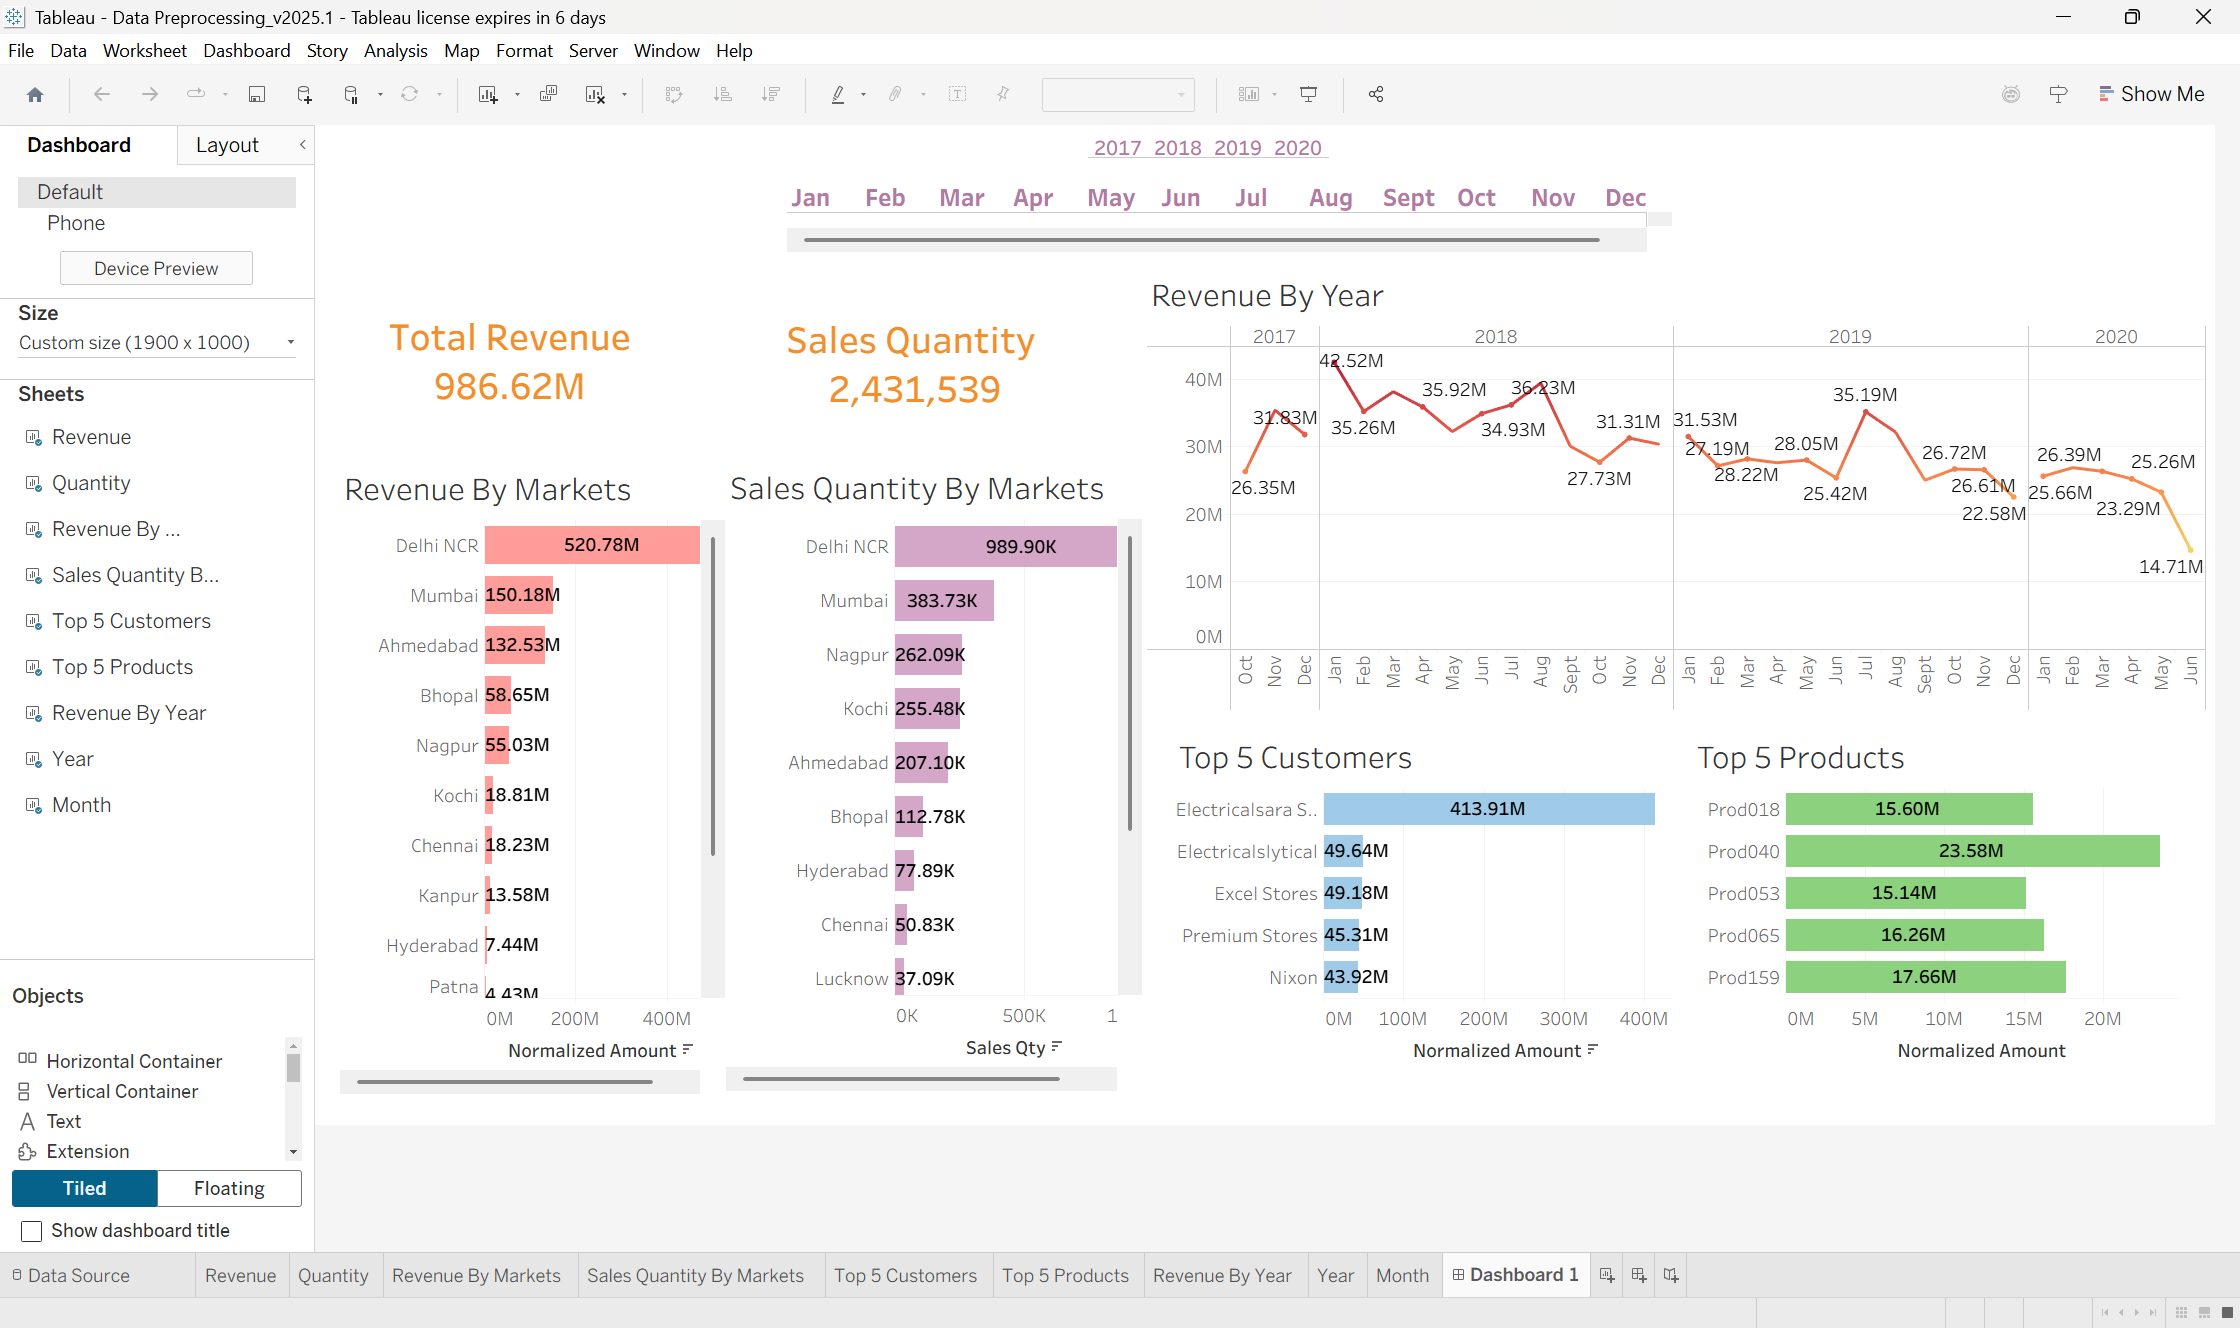

This screenshot's page, from the dashboard's own definition file:
{"tool":"tableau","page":{"name":"Dashboard 1","canvas":[1900,1000],"ordinal":0},"visuals":[{"type":"worksheet","title":"Year","mark":"Automatic","cols":["cy_date"],"box":[773,12,271,49]},{"type":"worksheet","title":"Month","mark":"Automatic","cols":["cy_date"],"box":[472,55,885,72]},{"type":"worksheet","title":"Revenue By Year","mark":"Automatic","rows":["Calculation_1013028471454126080"],"cols":["cy_date","cy_date"],"box":[832,144,1059,442]},{"type":"worksheet","title":"Revenue","mark":"Automatic","box":[65,186,285,121]},{"type":"worksheet","title":"Quantity","mark":"Automatic","box":[466,189,294,113]},{"type":"worksheet","title":"Sales Quantity By Markets","mark":"Automatic","rows":["markets_name"],"cols":["sales_qty"],"box":[411,337,416,629]},{"type":"worksheet","title":"Revenue By Markets","mark":"Automatic","rows":["markets_name"],"cols":["Calculation_1013028471454126080"],"box":[25,338,385,631]},{"type":"worksheet","title":"Top 5 Customers","mark":"Automatic","rows":["custmer_name"],"cols":["Calculation_1013028471454126080"],"box":[860,606,497,367]},{"type":"worksheet","title":"Top 5 Products","mark":"Automatic","rows":["product_code (products)"],"cols":["Calculation_1013028471454126080"],"box":[1378,606,486,367]}]}

Visuals, with their boxes on the page's 1900x1000 design canvas (x1, y1, x2, y2). These are canvas units, not pixel positions in the 2240x1328 screenshot, which may show the page scaled, cropped or inside an application window:
"Year" worksheet: x1=773, y1=12, x2=1044, y2=61
"Month" worksheet: x1=472, y1=55, x2=1357, y2=127
"Revenue By Year" worksheet: x1=832, y1=144, x2=1891, y2=586
"Revenue" worksheet: x1=65, y1=186, x2=350, y2=307
"Quantity" worksheet: x1=466, y1=189, x2=760, y2=302
"Sales Quantity By Markets" worksheet: x1=411, y1=337, x2=827, y2=966
"Revenue By Markets" worksheet: x1=25, y1=338, x2=410, y2=969
"Top 5 Customers" worksheet: x1=860, y1=606, x2=1357, y2=973
"Top 5 Products" worksheet: x1=1378, y1=606, x2=1864, y2=973
